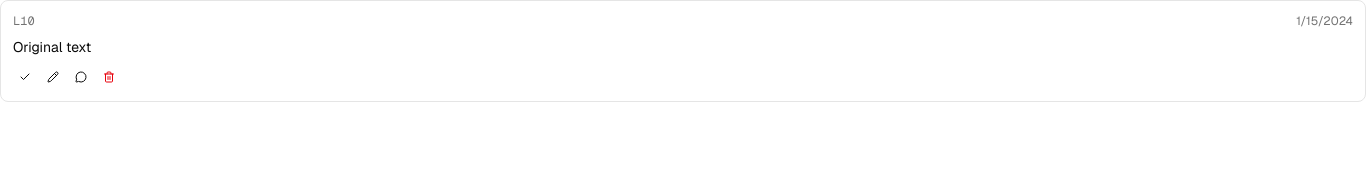
CommentThread › edit mode › shows textarea when edit button is clicked
The image size is (1366, 187).
Click the button named "edit" at (53, 77), box [41,65,65,89]
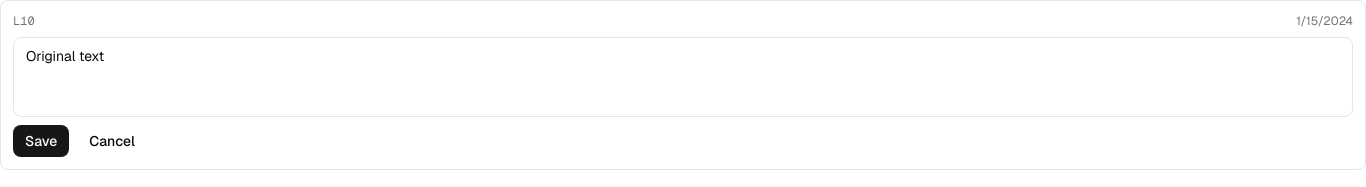
Now the text box holds "Original text", box [13,37,1353,117]
